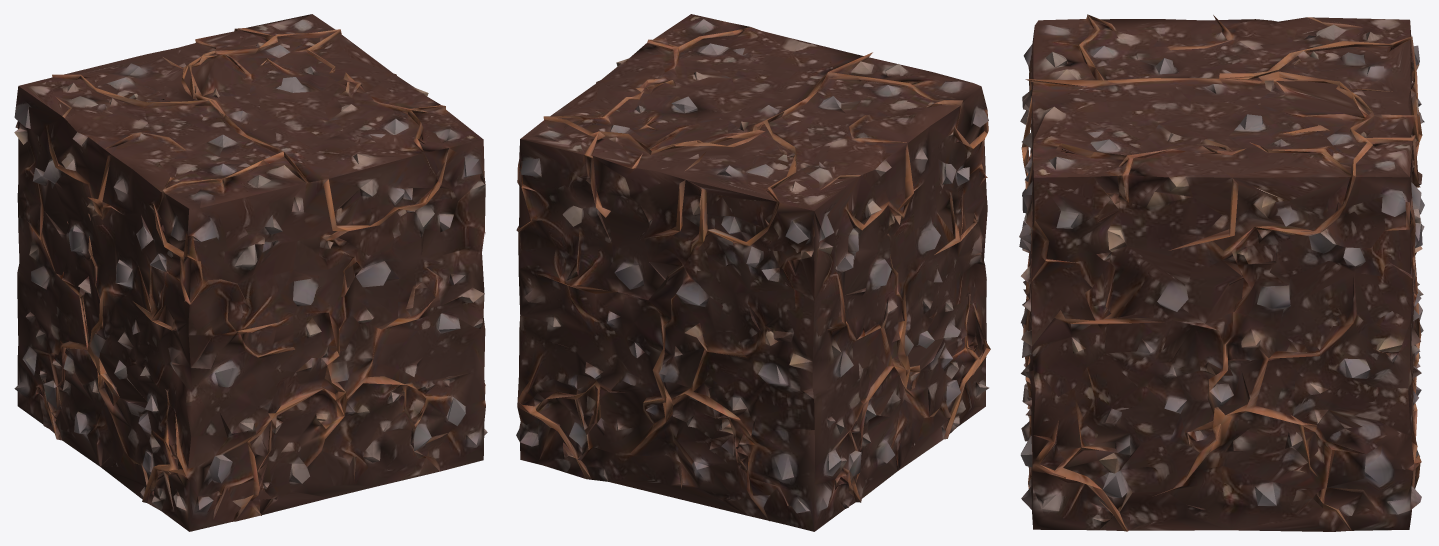
The model's file is block_dirt_idle.glb.
3 views of the same model, side by side, from view 1: azimuth 30°, elevation 25°; view 2: azimuth 150°, elevation 25°; view 3: azimuth 270°, elevation 25° (orthographic). The views are drawn at different scales.
Parts seen in each view (by area): view 1: tripo_node_71208699-0653-4fe0-9b33-5ccc0b8f84f5; view 2: tripo_node_71208699-0653-4fe0-9b33-5ccc0b8f84f5; view 3: tripo_node_71208699-0653-4fe0-9b33-5ccc0b8f84f5.
Part boxes in pixels (x1,y1,x2,y2): tripo_node_71208699-0653-4fe0-9b33-5ccc0b8f84f5: (14,14,487,531); tripo_node_71208699-0653-4fe0-9b33-5ccc0b8f84f5: (516,14,990,531); tripo_node_71208699-0653-4fe0-9b33-5ccc0b8f84f5: (1019,14,1424,531).
Bounding box in the file's own units: 1 × 0.9986 × 1.
Materials: 1 (1 with a texture image).
